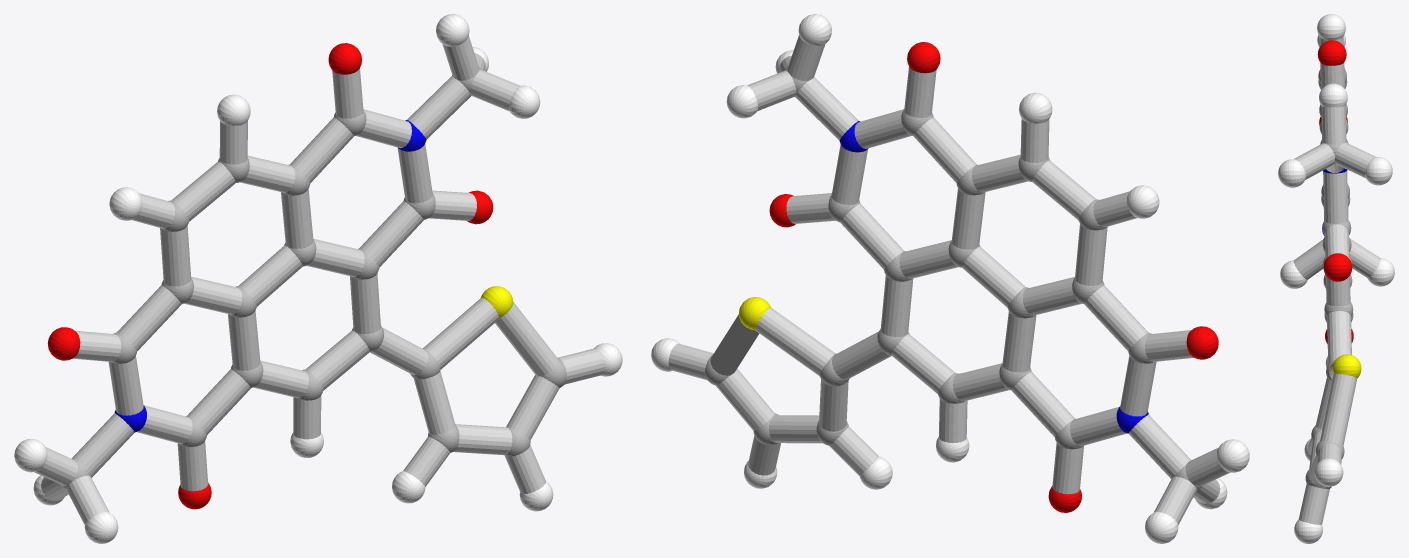
Rendered from Dimethyl_Naphthalene_Dicarboximide_Phi_10_Theta_170_Thiophene.glb.
3 renders of one model, left to right at view 1: azimuth 30°, elevation 25°; view 2: azimuth 150°, elevation 25°; view 3: azimuth 270°, elevation 25°, orthographic. The views are drawn at different scales.
Visible parts, largest first — view 1: grp14119, grp7241, grp1, grp12309, grp11585; view 2: grp14119, grp7241, grp1, grp12309, grp11585, grp13757; view 3: grp14119, grp7241, grp1, grp12309, grp13757.
Part boxes in pixels (x1,y1,x2,y2): grp14119: [34, 36, 604, 524]; grp7241: [14, 14, 622, 543]; grp1: [61, 67, 566, 489]; grp12309: [47, 43, 493, 509]; grp11585: [114, 120, 426, 432]; grp14119: [668, 35, 1230, 525]; grp7241: [651, 14, 1249, 543]; grp1: [705, 68, 1201, 491]; grp12309: [769, 42, 1218, 512]; grp11585: [839, 121, 1148, 433]; grp13757: [739, 297, 770, 329]; grp14119: [1293, 36, 1380, 524]; grp7241: [1278, 14, 1394, 543]; grp1: [1305, 69, 1353, 489]; grp12309: [1317, 40, 1353, 343]; grp13757: [1332, 354, 1361, 378].
Bounding box in the file's own units: 12.35 × 9.85 × 2.43.
